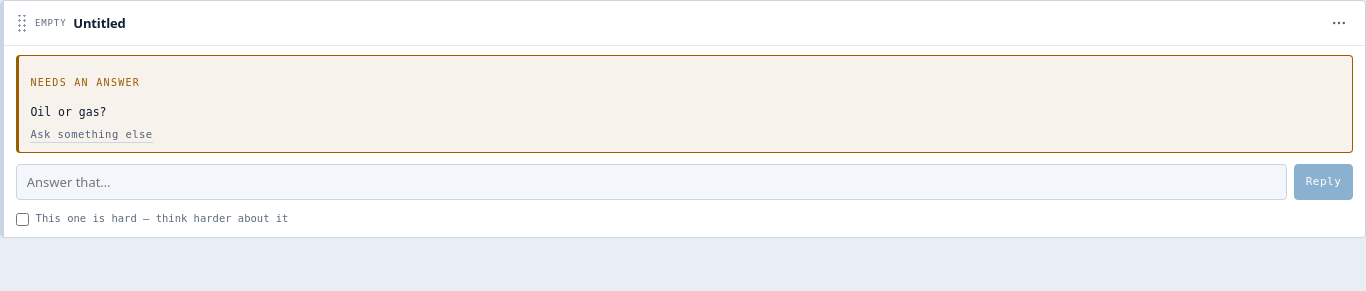
Test: Card exchanges › keeps the saved exchange replyable when sending the reply fails
Step 1. Type "oil" into the field labelled "Answer that…" → point(652, 182), box [16, 164, 1287, 200]
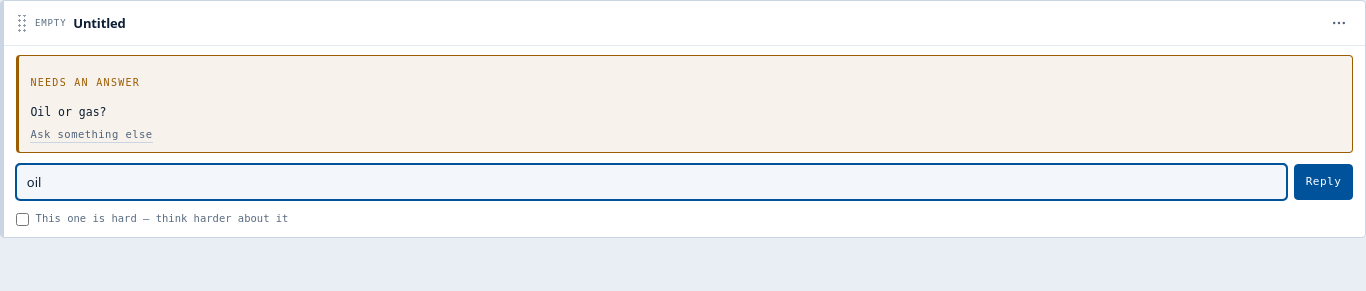
Step 2. Click the button "Reply" → point(1324, 182), box [1294, 164, 1354, 200]
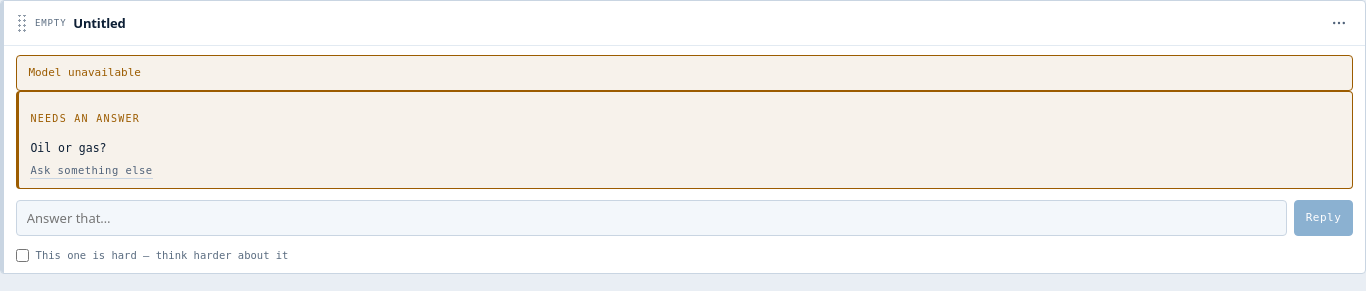
expect the text "Oil or gas?" is shown: met, box [30, 141, 107, 155]
expect the text "Model unavailable" is shown: met, box [16, 55, 1354, 91]
